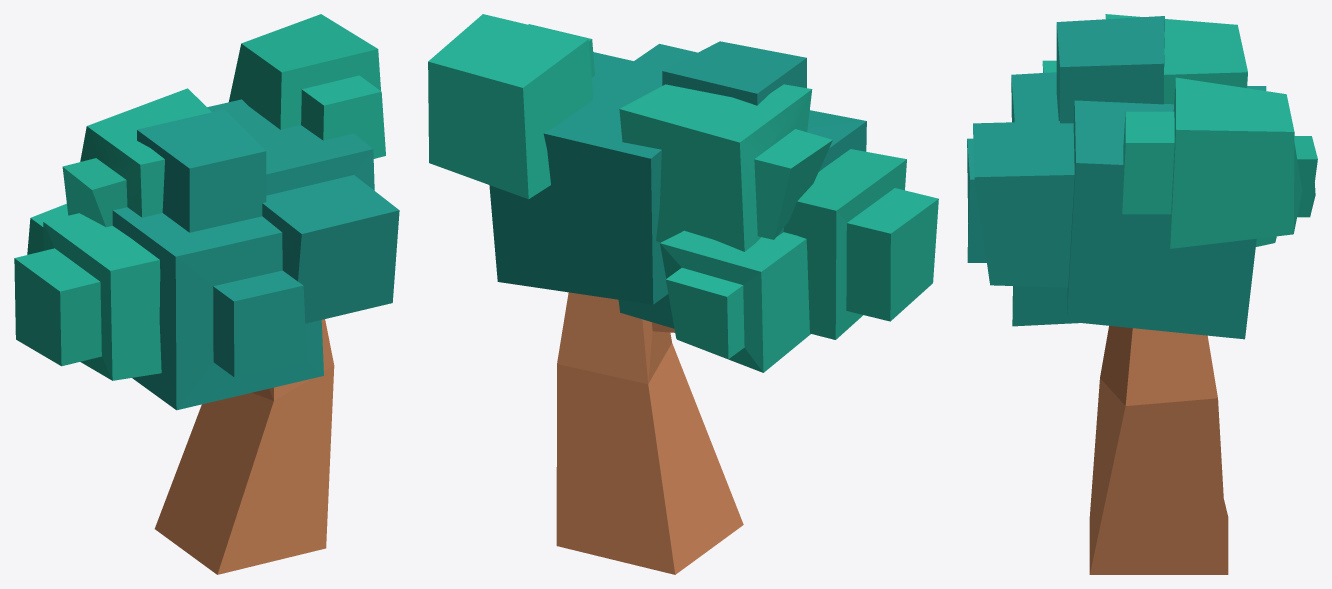
The model's file is tree4.fbx.
3 views of the same model, side by side, from view 1: azimuth 30°, elevation 25°; view 2: azimuth 150°, elevation 25°; view 3: azimuth 270°, elevation 25° (orthographic). The views are drawn at different scales.
Parts seen in each view (by area): view 1: pCube35, pCube30, pCube31, pCube34, pCube36, pCube32, pCube33; view 2: pCube30, pCube31, pCube32, pCube36, pCube34, pCube33, pCube35; view 3: pCube31, pCube30, pCube36, pCube35, pCube32, pCube33.
Boxes of the visible parts, x1,y1,x2,y2 form: pCube35: (112, 109, 323, 410); pCube30: (154, 319, 334, 574); pCube31: (207, 99, 399, 323); pCube34: (14, 213, 161, 380); pCube36: (229, 14, 385, 158); pCube32: (62, 88, 211, 227); pCube33: (27, 203, 68, 254); pCube30: (556, 292, 743, 574); pCube31: (489, 44, 697, 304); pCube32: (619, 84, 832, 251); pCube36: (428, 14, 594, 199); pCube34: (783, 149, 938, 339); pCube33: (660, 230, 810, 372); pCube35: (618, 41, 866, 328); pCube31: (973, 86, 1266, 339); pCube30: (1089, 326, 1228, 574); pCube36: (1121, 77, 1302, 248); pCube35: (967, 16, 1164, 326); pCube32: (1105, 14, 1247, 104); pCube33: (1256, 136, 1317, 246).
Size of the model in its own units: 190 by 219 by 141.
